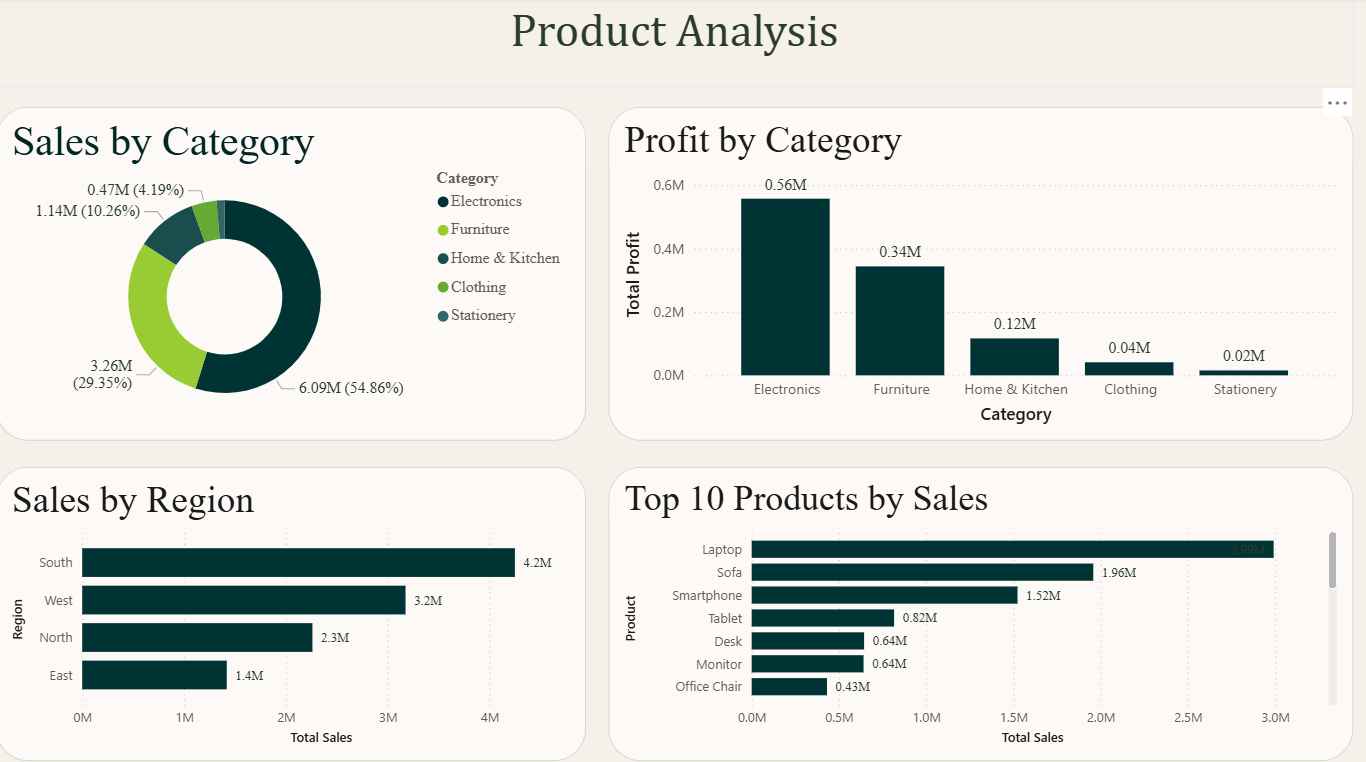

What the dashboard file says about the page in this screenshot:
{"tool":"powerbi","page":{"name":"Product Analysis","canvas":[1280,720],"ordinal":1},"visuals":[{"type":"donutChart","title":"Sales by Category","fields":{"Category":["Sales_Data.Category"],"Y":["Sales_Data.Total Sales"]},"box":[0,102.5,548.8,310],"z":0},{"type":"clusteredBarChart","title":" Sales by Region","fields":{"Category":["Sales_Data.Region"],"Y":["Sales_Data.Total Sales"]},"box":[0,437.5,548.8,273.8],"z":1000},{"type":"clusteredColumnChart","title":" Profit by Category","fields":{"Category":["Sales_Data.Category"],"Y":["Sales_Data.Total Profit"]},"box":[570,102.5,692.5,310],"z":2000},{"type":"clusteredBarChart","title":"Top 10 Products by Sales","fields":{"Y":["Sales_Data.Total Sales"],"Category":["Sales_Data.Product"]},"box":[570,437.5,692.5,273.8],"z":3000},{"type":"textbox","box":[0,0,1262.4,83.7],"z":4000}]}

Visuals, with their boxes in screenshot pixels (x1, y1, x2, y2), scaled from the page's 1280x720 canvas onto the 1366x762 screenshot:
"Sales by Category" donutChart: locate(0, 108, 586, 437)
" Sales by Region" clusteredBarChart: locate(0, 463, 586, 753)
" Profit by Category" clusteredColumnChart: locate(608, 108, 1347, 437)
"Top 10 Products by Sales" clusteredBarChart: locate(608, 463, 1347, 753)
textbox: locate(0, 0, 1347, 89)
